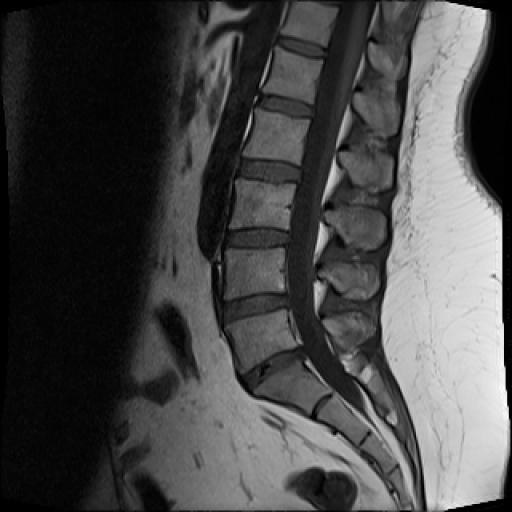L1: (263, 46, 323, 104)
L2: (242, 108, 310, 164)
L3: (230, 180, 294, 230)
L4: (224, 248, 285, 300)
L5: (225, 309, 298, 374)
S1: (253, 363, 330, 416)
